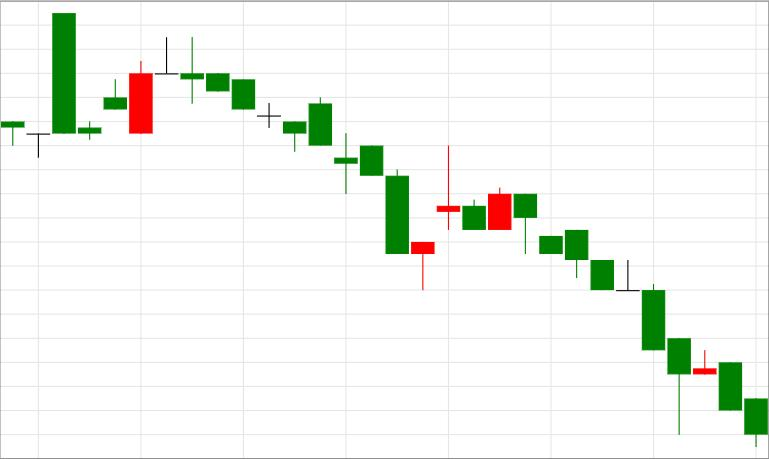hammer_rise: (514, 194, 691, 436)
